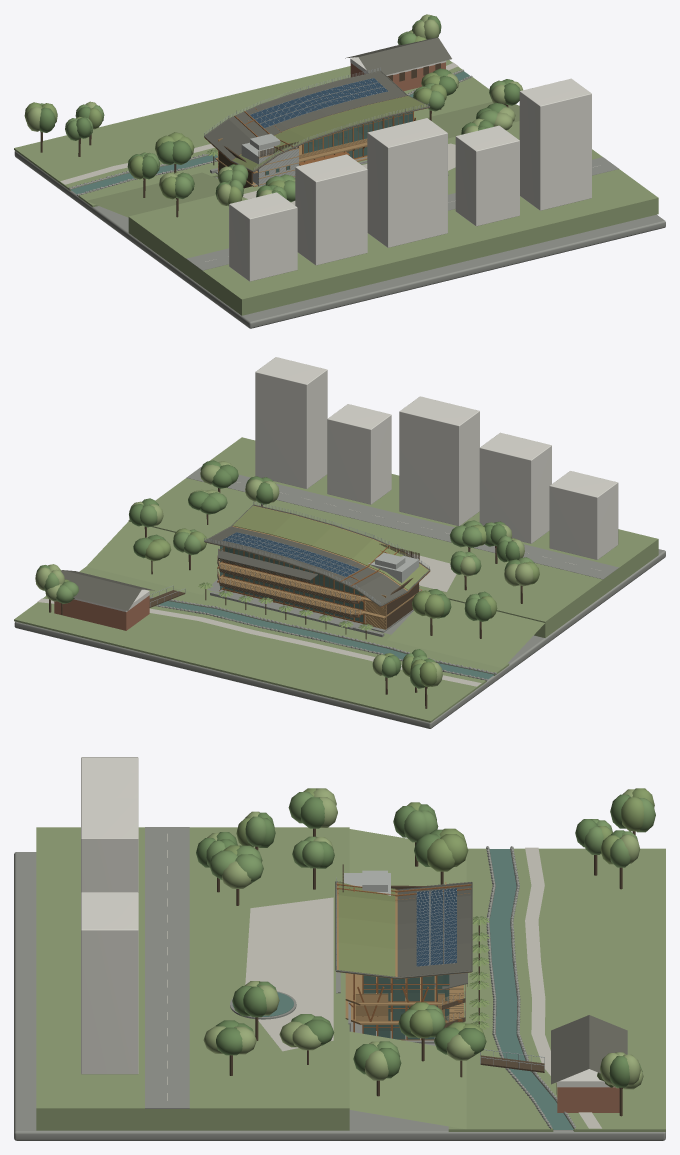
3 renders of one model, top to bottom at view 1: azimuth 30°, elevation 25°; view 2: azimuth 150°, elevation 25°; view 3: azimuth 270°, elevation 25°, orthographic. The views are drawn at different scales.
Visible parts, largest first — view 1: 鄰棟與植栽, 08_基地地形, 04_屋頂與光電, 06_南側服務量體, 03_門窗玻璃, 01_樓板與基座; view 2: 08_基地地形, 鄰棟與植栽, 04_屋頂與光電, 01_樓板與基座, 05_陽台欄杆, 06_南側服務量體, 03_門窗玻璃, 02_木構與斜撐, 09_植栽; view 3: 08_基地地形, 鄰棟與植栽, 04_屋頂與光電, 03_門窗玻璃, 06_南側服務量體, 01_樓板與基座, 09_植栽, 05_陽台欄杆.
Boxes of the visible parts, x1,y1,x2,y2 form: 鄰棟與植栽: (24,14,591,281); 08_基地地形: (14,60,665,328); 04_屋頂與光電: (204,68,430,173); 06_南側服務量體: (218,134,367,188); 03_門窗玻璃: (304,112,413,158); 01_樓板與基座: (210,142,367,186); 08_基地地形: (14,437,665,728); 鄰棟與植栽: (35,357,618,708); 04_屋頂與光電: (204,501,430,607); 01_樓板與基座: (210,561,422,636); 05_陽台欄杆: (217,548,362,617); 06_南側服務量體: (365,544,419,629); 03_門窗玻璃: (219,546,363,622); 02_木構與斜撐: (217,546,388,624); 09_植栽: (198,582,373,630); 08_基地地形: (14,827,665,1140); 鄰棟與植栽: (81,757,655,1116); 04_屋頂與光電: (335,877,472,979); 03_門窗玻璃: (362,974,449,1040); 06_南側服務量體: (342,864,446,1021); 01_樓板與基座: (336,972,463,1043); 09_植栽: (469,916,489,1029); 05_陽台欄杆: (442,973,467,1028).
Size of the model in its own units: 104 by 30.75 by 102.
